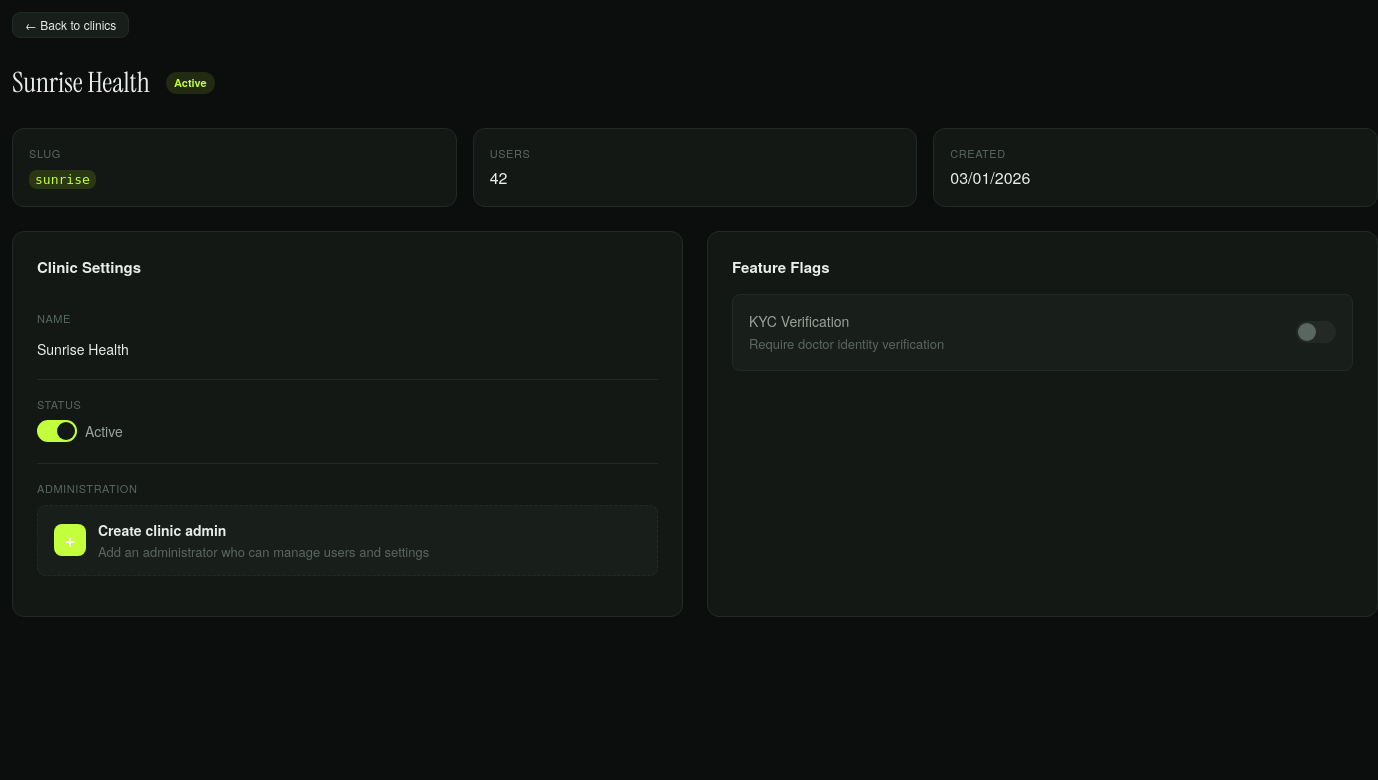
Test case: ClinicDetailPage › feature flags › on toggle error shows flagError inline
Expected: the text "KYC Verification" is shown, x1=749 y1=311 x2=849 y2=331
Click the switch named "KYC Verification".
click(1316, 332)  # box x1=1296 y1=321 x2=1336 y2=343
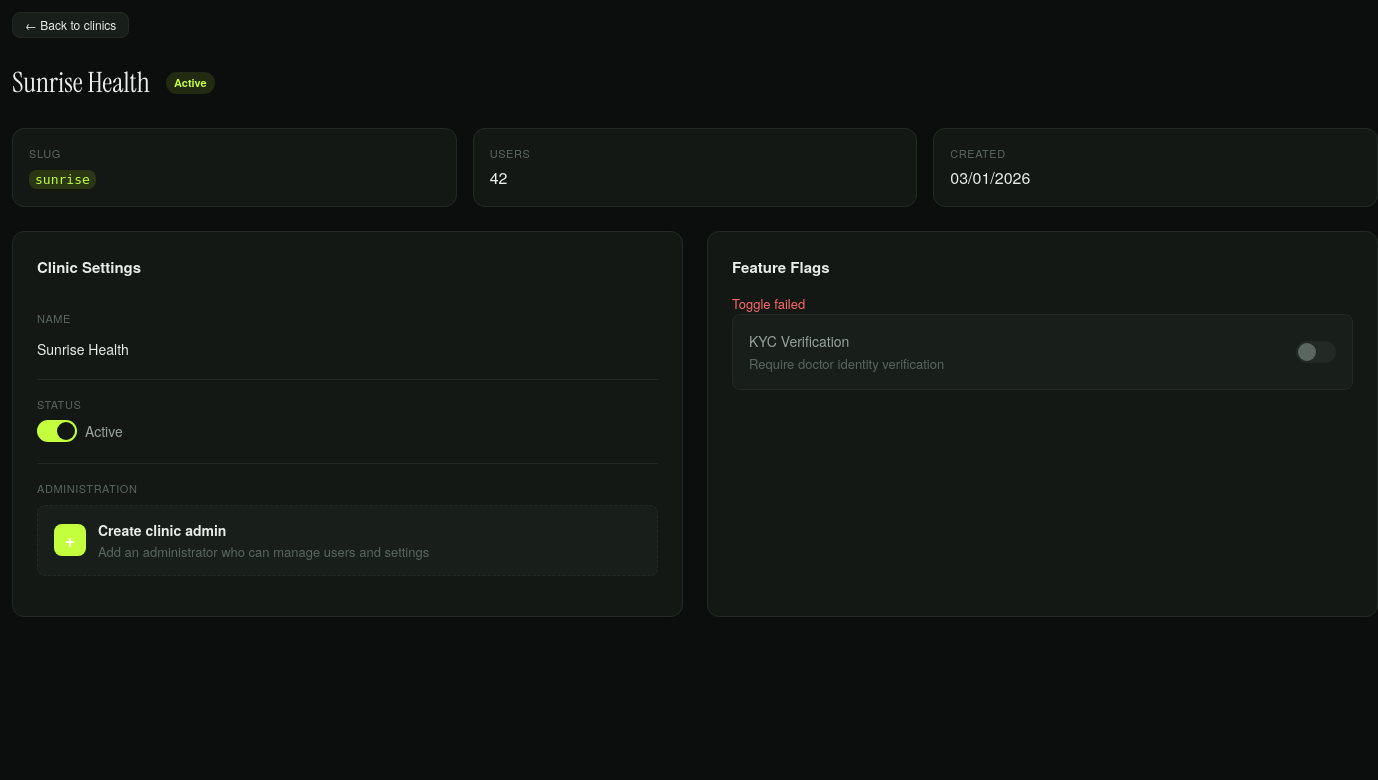
Now the text "Toggle failed" is shown, box x1=732 y1=294 x2=805 y2=313
